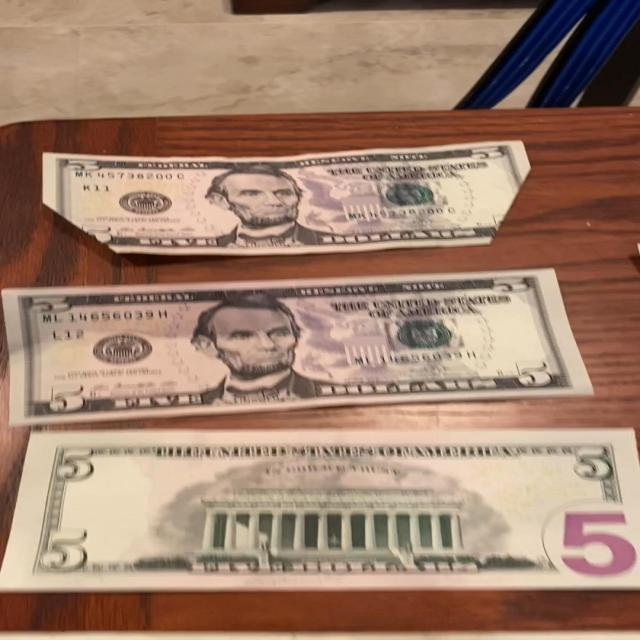5-Back: (0, 427, 640, 596)
5-Front: (0, 268, 598, 427), (39, 134, 542, 259)
